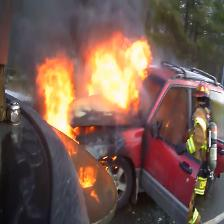fire: (30, 36, 160, 204)
nofire: (178, 62, 224, 202)
smoke: (6, 0, 167, 66)
